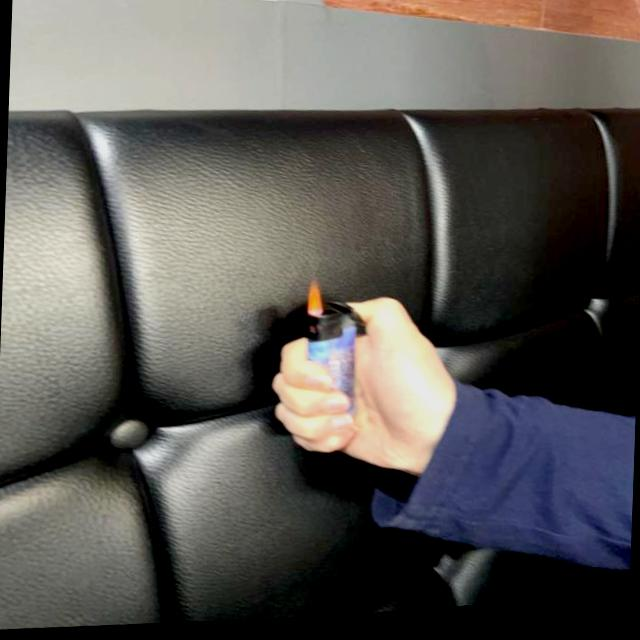helmet: (306, 282, 324, 326)
